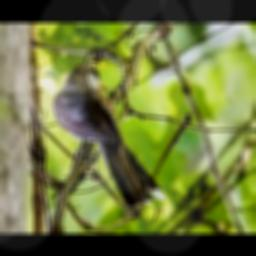Cuckoo: (53, 63, 168, 210)
